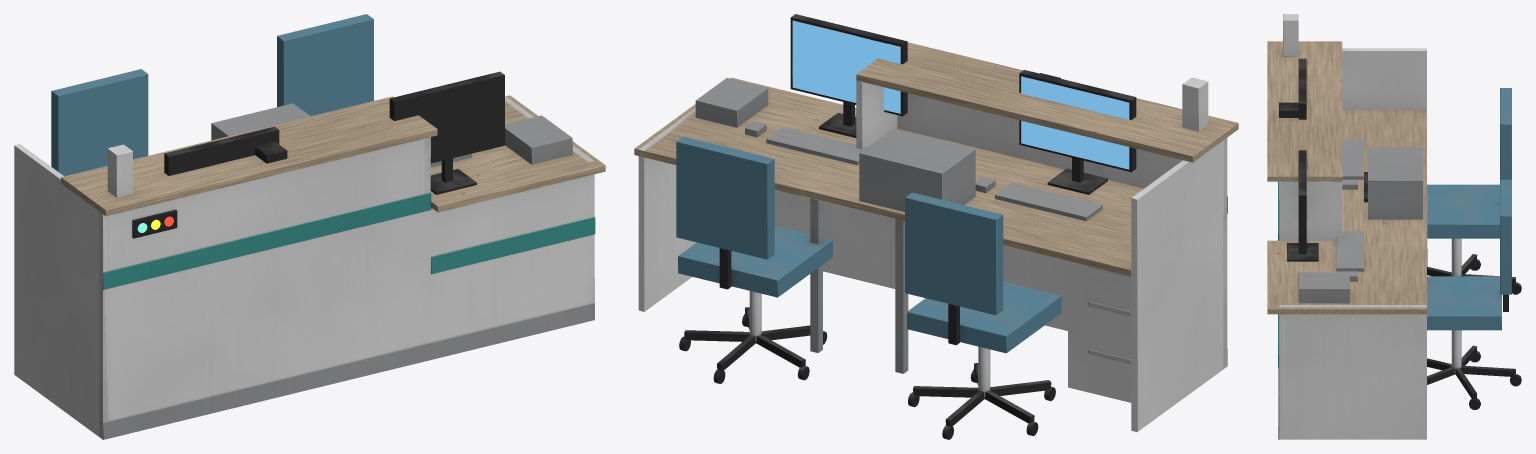
The model's file is ReceptionDesk.fbx.
3 renders of one model, left to right at view 1: azimuth 30°, elevation 25°; view 2: azimuth 150°, elevation 25°; view 3: azimuth 270°, elevation 25°, orthographic. The views are drawn at different scales.
Parts seen in each view (by area): view 1: Body_LOD0, Beacon_LOD0; view 2: Body_LOD0; view 3: Body_LOD0.
Part boxes in pixels (x1,y1,x2,y2): Body_LOD0: [14, 14, 605, 439]; Beacon_LOD0: [132, 209, 177, 238]; Body_LOD0: [634, 14, 1238, 439]; Body_LOD0: [1267, 14, 1521, 439].
Size of what is drawn, in the model's own units: 2.44 by 1.3 by 1.29.
Materials: 1 (1 with a texture image).
